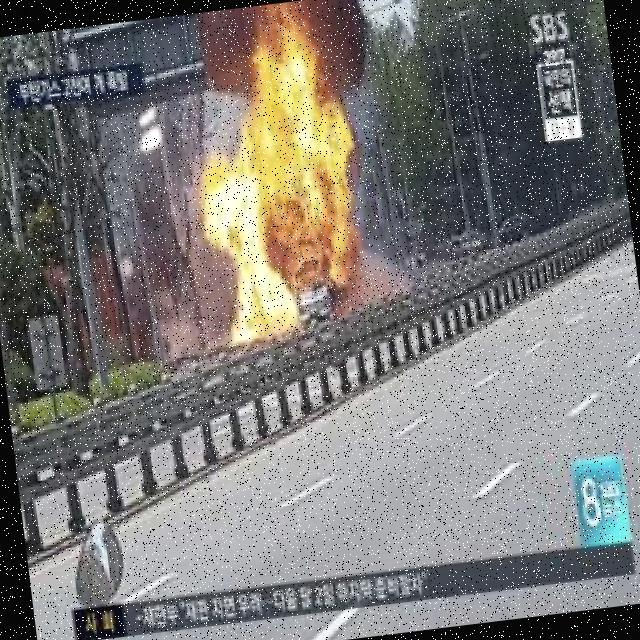Fire: (196, 123, 367, 342), (240, 23, 330, 123)
